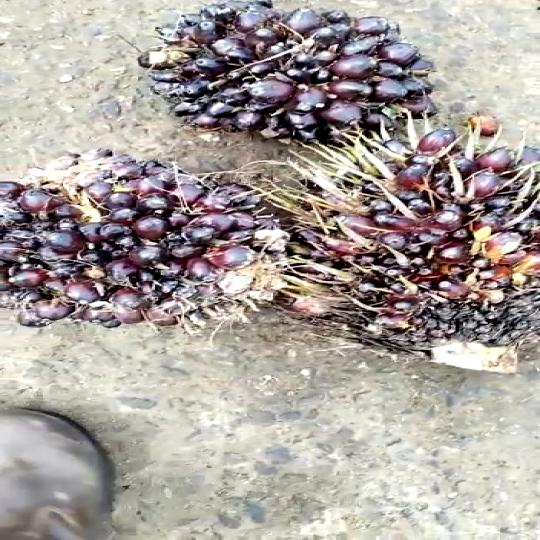kurang masak: (278, 111, 540, 373), (0, 156, 320, 346), (118, 0, 461, 153)
